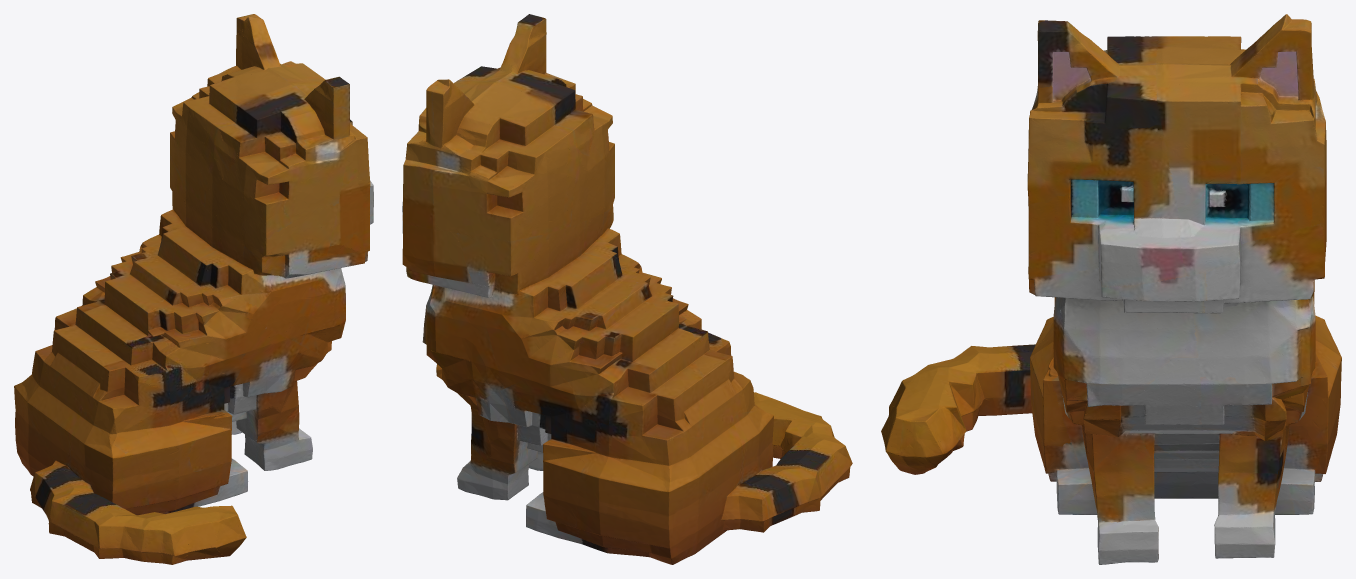
Rendered from cat-compressed.glb.
3 views of the same model, side by side, from view 1: azimuth 30°, elevation 25°; view 2: azimuth 150°, elevation 25°; view 3: azimuth 270°, elevation 25° (orthographic). The views are drawn at different scales.
Parts seen in each view (by area): view 1: tripo_node_941fd631-fba5-49fa-b40b-99572f6f6b04; view 2: tripo_node_941fd631-fba5-49fa-b40b-99572f6f6b04; view 3: tripo_node_941fd631-fba5-49fa-b40b-99572f6f6b04.
Boxes of the visible parts, <box> form: tripo_node_941fd631-fba5-49fa-b40b-99572f6f6b04: <box>14,14,373,564</box>; tripo_node_941fd631-fba5-49fa-b40b-99572f6f6b04: <box>402,14,852,564</box>; tripo_node_941fd631-fba5-49fa-b40b-99572f6f6b04: <box>881,14,1341,564</box>.
Bounding box in the file's own units: 29059 × 32767 × 24146.
Materials: 1 (1 with a texture image).
